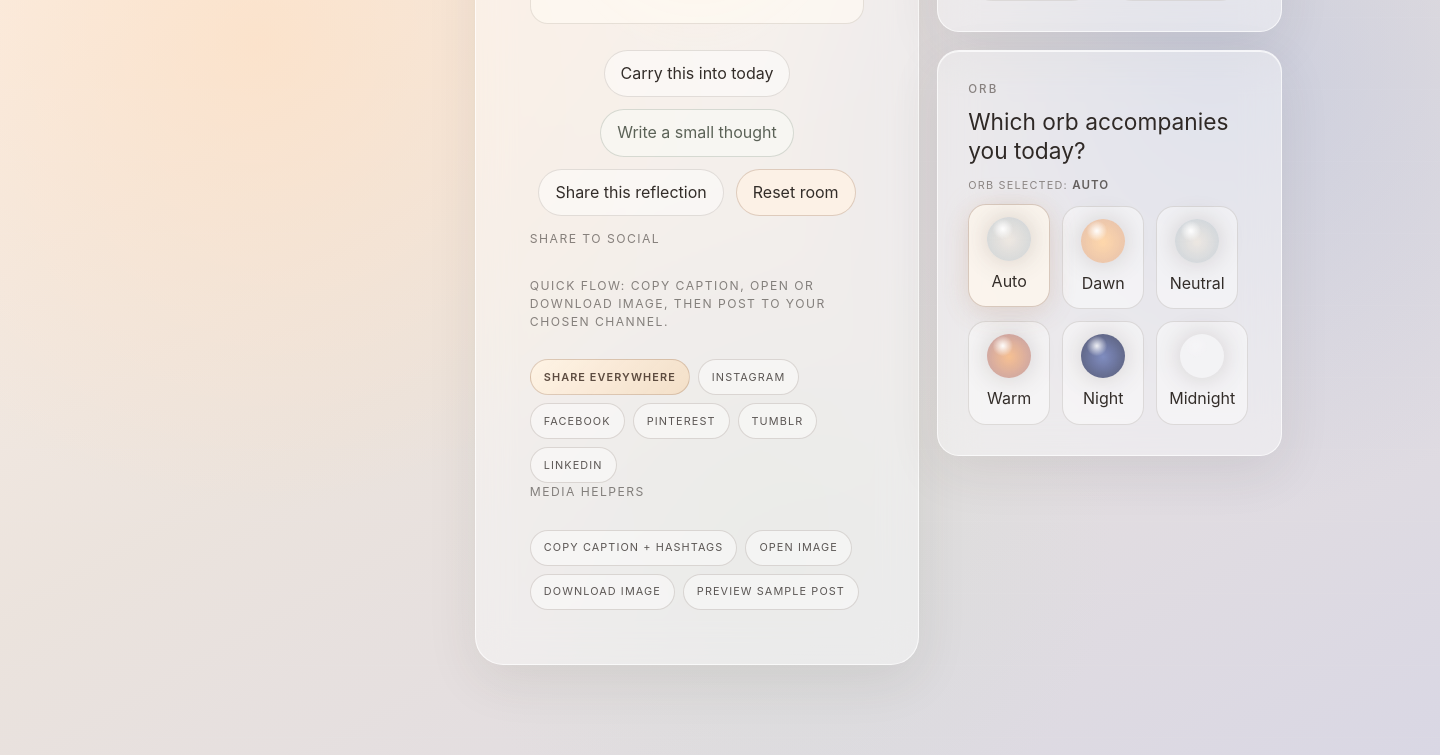
Test: Quiet Room › copies caption and hashtags for social posting
The width and height of the screenshot is (1440, 755).
(page scrolled)
Click the button "Copy Caption + Hashtags".
click(634, 548)  # box [530, 530, 737, 566]
(page scrolled)
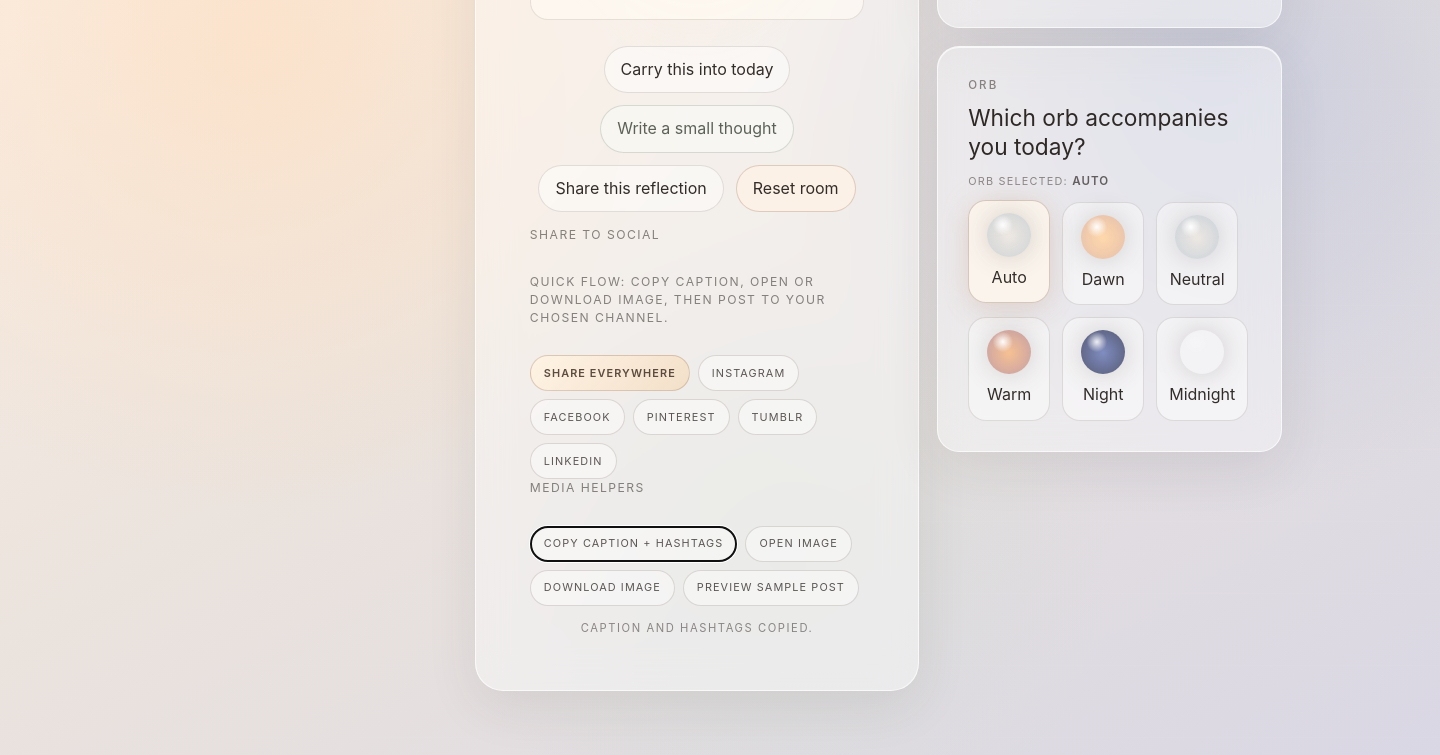
expect the text "Caption and hashtags copied." is shown: met, box [569, 620, 825, 636]
